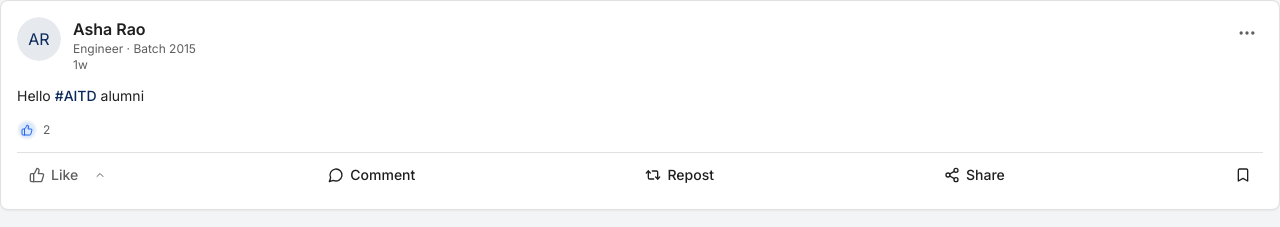
Test case: PostCard reactions › picks another reaction from the picker
Click the button named "Choose a reaction".
click(100, 175)  # box top-left (90, 165), bottom-right (110, 185)
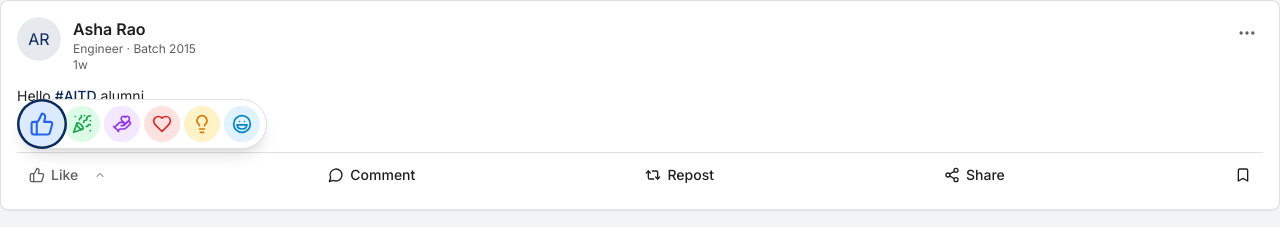
Click the button named "Celebrate".
click(82, 124)  # box top-left (64, 106), bottom-right (100, 142)
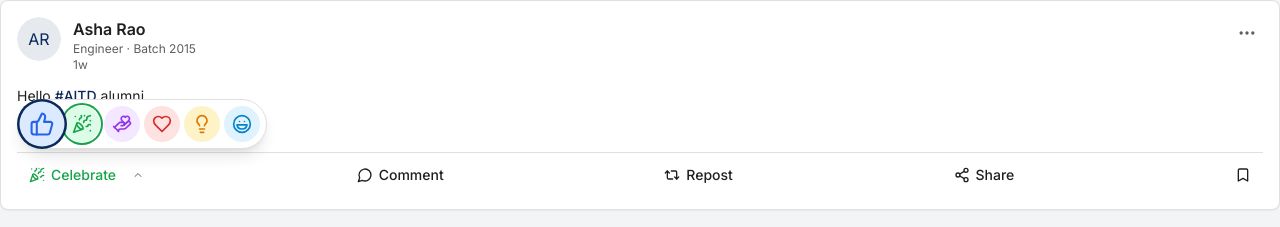
Expected: the button with aria-label "Remove Celebrate reaction" is shown, top-left (17, 157), bottom-right (128, 193)
